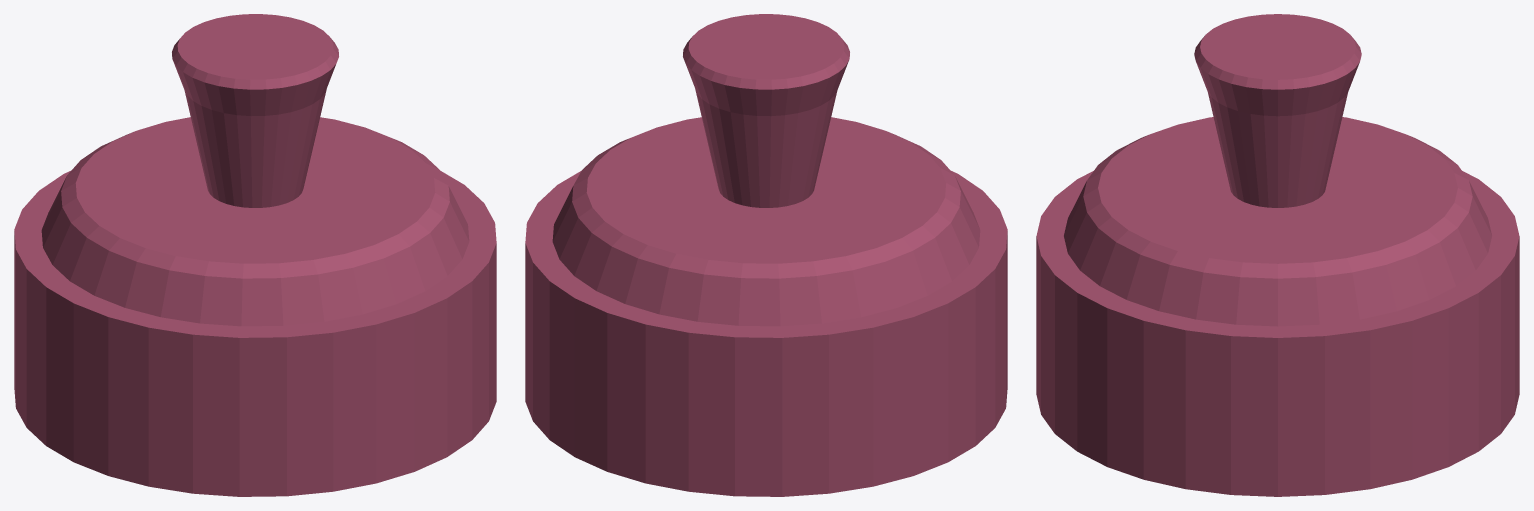
Rendered from not_butt_plug_GJ22.fbx.
3 renders of one model, left to right at view 1: azimuth 30°, elevation 25°; view 2: azimuth 150°, elevation 25°; view 3: azimuth 270°, elevation 25°, orthographic.
Parts seen in each view (by area): view 1: Cylinder; view 2: Cylinder; view 3: Cylinder.
Boxes of the visible parts, bbox=[...] form: Cylinder: bbox=[14, 14, 496, 496]; Cylinder: bbox=[525, 14, 1007, 496]; Cylinder: bbox=[1036, 14, 1519, 496].
Bounding box in the file's own units: 20 × 15.9 × 20.
